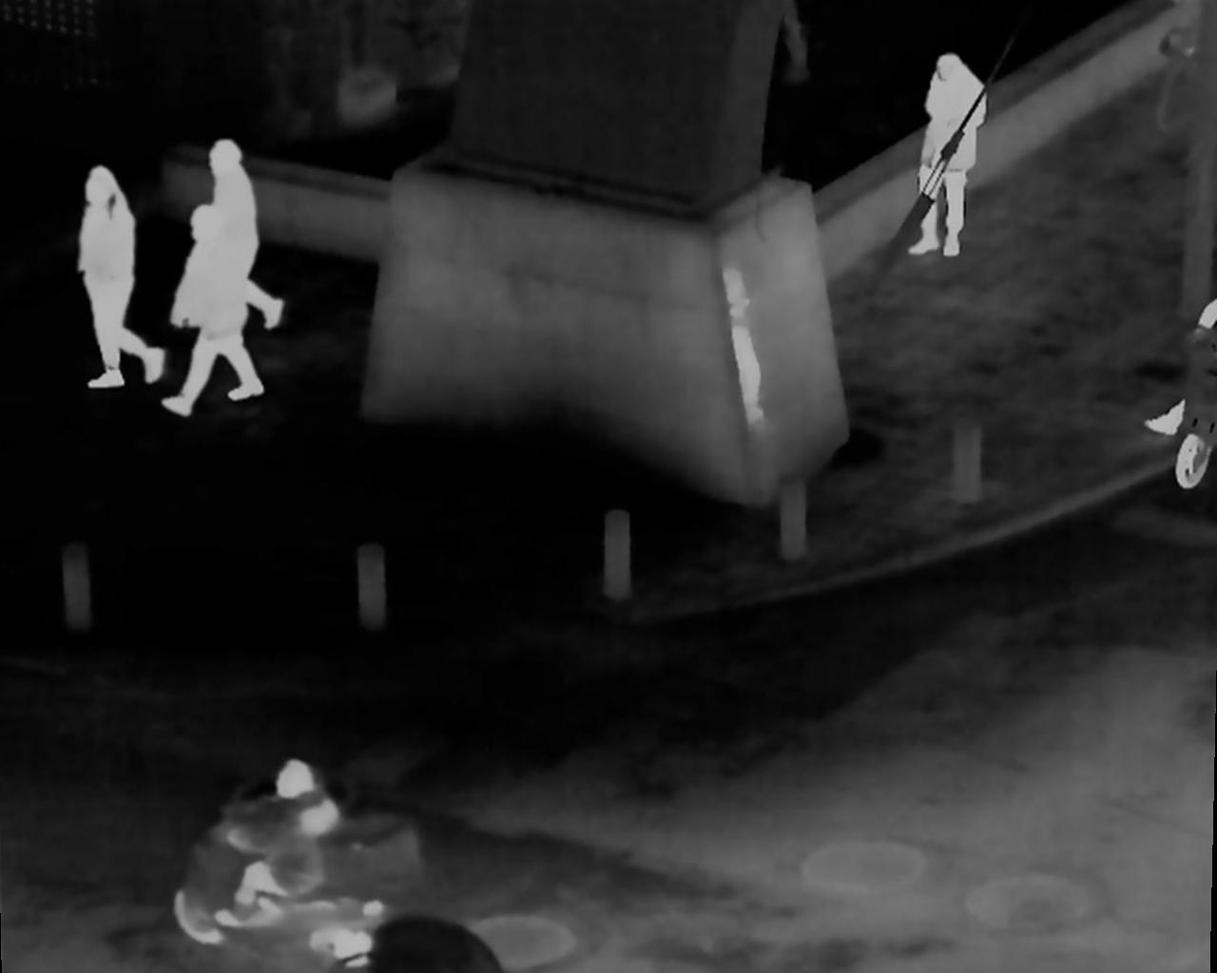person: (156, 207, 262, 422), (77, 161, 168, 391), (216, 748, 336, 914), (904, 58, 997, 262), (203, 140, 284, 320)
